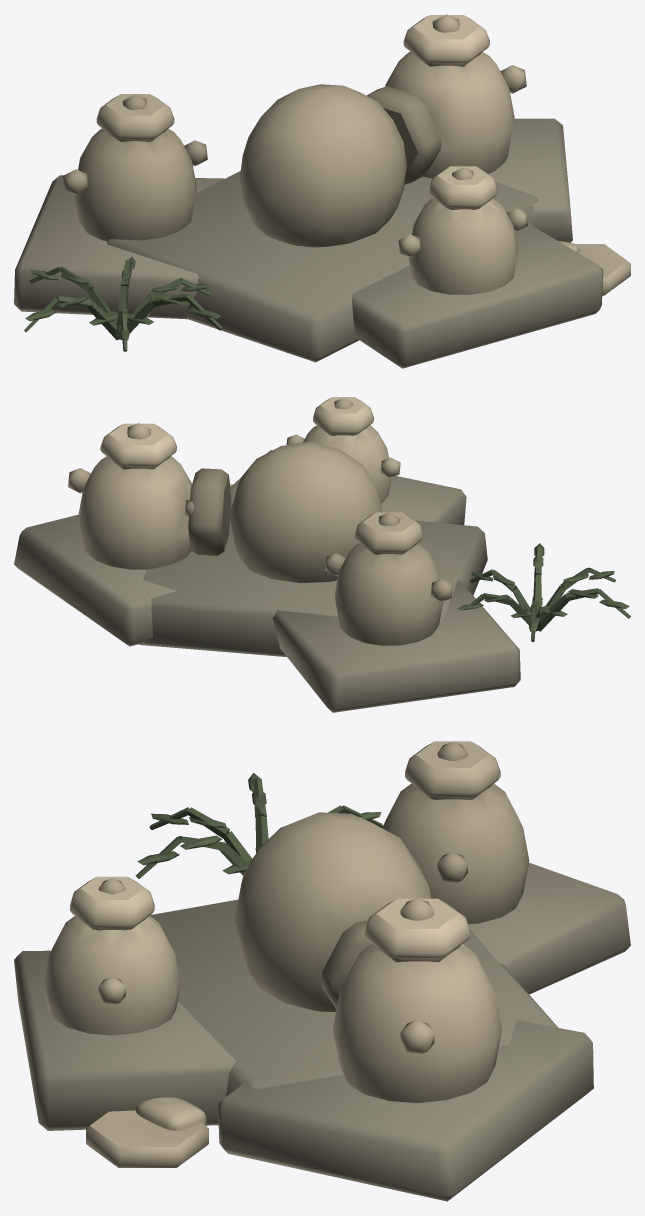
Rendered from granary_jars_c.glb.
3 renders of one model, top to bottom at view 1: azimuth 30°, elevation 25°; view 2: azimuth 150°, elevation 25°; view 3: azimuth 270°, elevation 25°, orthographic. The views are drawn at different scales.
Visible parts, largest first — view 1: Surface; view 2: Surface; view 3: Surface.
Boxes of the visible parts, box(x1,y1,x2,y2) form: Surface: box(14, 14, 630, 368); Surface: box(14, 397, 630, 712); Surface: box(14, 741, 630, 1201).
Size of the model in its own units: 3.74 by 1.13 by 2.63.
